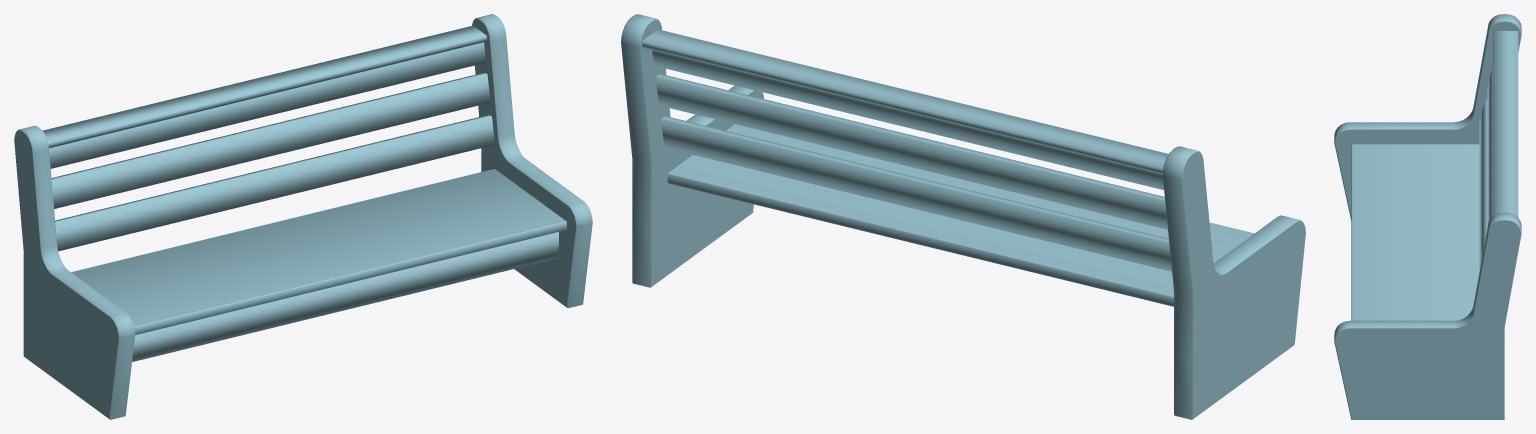
File: lo_Prop_ChurchBench_A.fbx
3 views of the same model, side by side, from view 1: azimuth 30°, elevation 25°; view 2: azimuth 150°, elevation 25°; view 3: azimuth 270°, elevation 25° (orthographic). The views are drawn at different scales.
Parts seen in each view (by area): view 1: lo_Prop_ChurchBench_A_LOD0; view 2: lo_Prop_ChurchBench_A_LOD0; view 3: lo_Prop_ChurchBench_A_LOD0.
Boxes of the visible parts, x1,y1,x2,y2 form: lo_Prop_ChurchBench_A_LOD0: [14, 14, 592, 419]; lo_Prop_ChurchBench_A_LOD0: [621, 14, 1305, 419]; lo_Prop_ChurchBench_A_LOD0: [1334, 14, 1521, 419].
Size of what is drawn, in the model's own units: 2.86 by 1.3 by 1.1.
